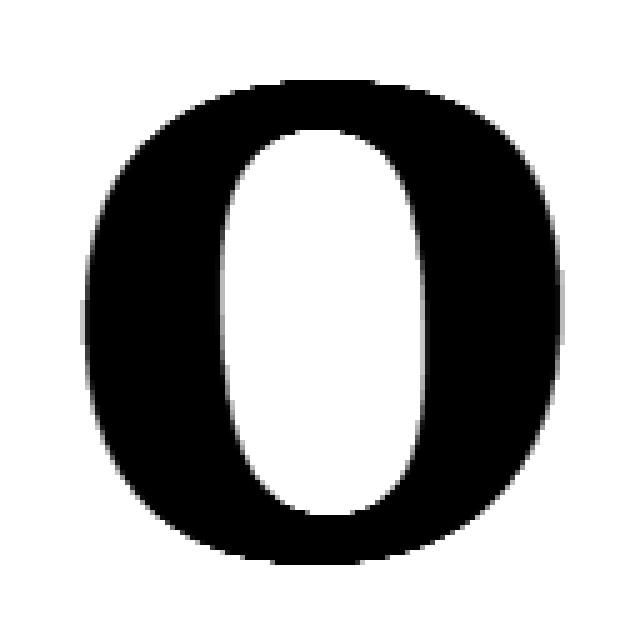O: (80, 80, 565, 570)
